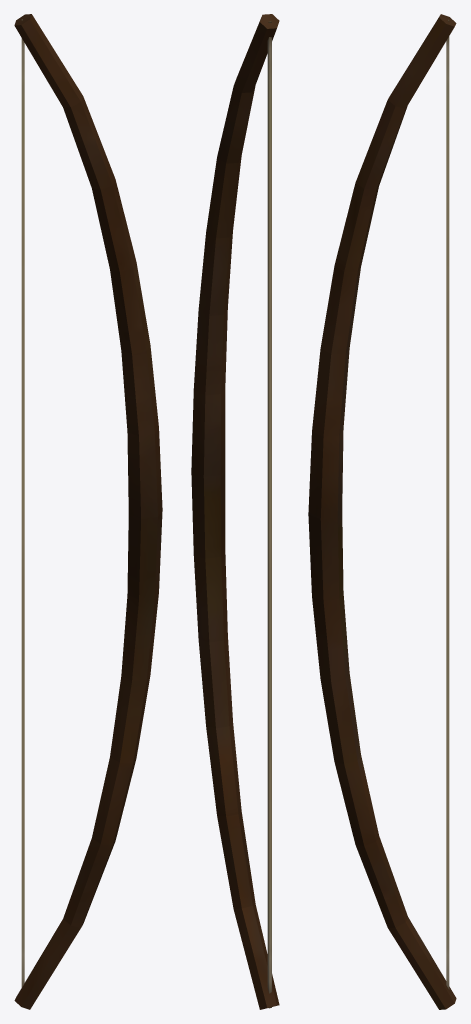
File: w_bow.glb
3 views of the same model, side by side, from view 1: azimuth 90°, elevation 25°; view 2: azimuth 210°, elevation 25°; view 3: azimuth 270°, elevation 25° (orthographic).
Visible parts, largest first — view 1: limb, string; view 2: limb, string; view 3: limb, string.
Part boxes in pixels (box(x1,y1,x2,y2)): limb: box(14, 14, 162, 1009); string: box(21, 19, 24, 987); limb: box(191, 14, 279, 1009); string: box(267, 21, 271, 1008); limb: box(308, 14, 456, 1009); string: box(446, 19, 449, 989).
Bounding box in the file's own units: 0.0386 × 1.25 × 0.1693.
Materials: 2 (2 with a texture image).
